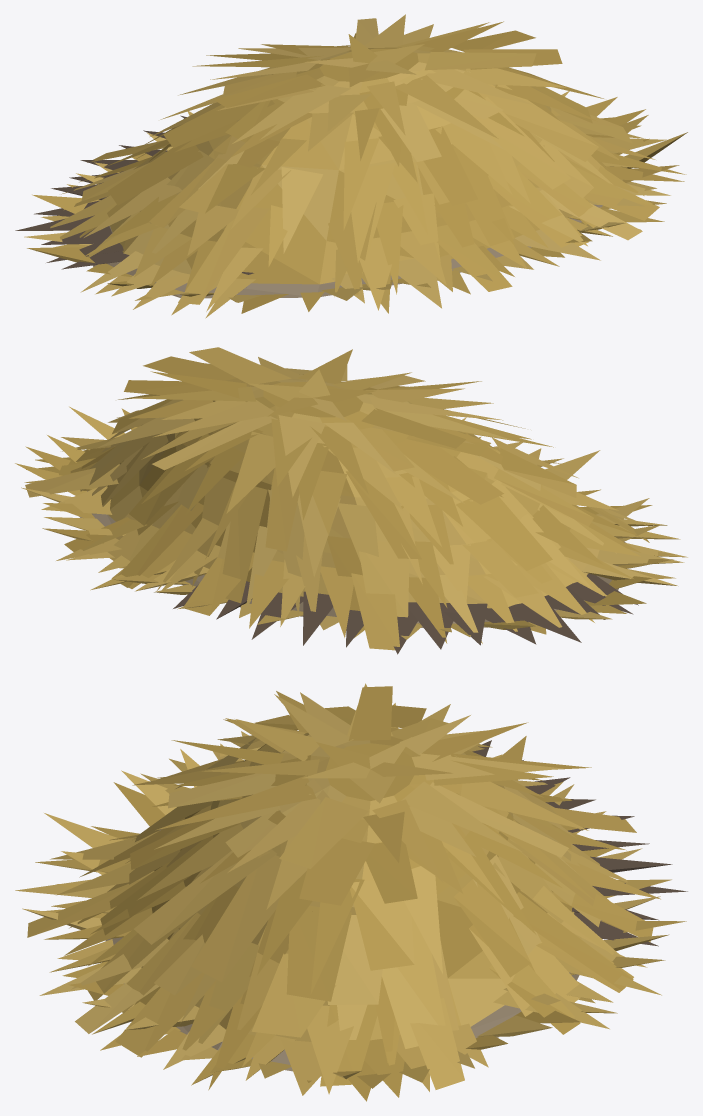
The model's file is straw-pile-ebd54d.glb.
3 renders of one model, top to bottom at view 1: azimuth 30°, elevation 25°; view 2: azimuth 150°, elevation 25°; view 3: azimuth 270°, elevation 25°, orthographic. The views are drawn at different scales.
Visible parts, largest first — view 1: straw-pile-mesh; view 2: straw-pile-mesh; view 3: straw-pile-mesh.
Boxes of the visible parts, left/top/right/bottom form: straw-pile-mesh: left=15, top=14, right=687, bottom=318; straw-pile-mesh: left=15, top=347, right=687, bottom=654; straw-pile-mesh: left=15, top=683, right=687, bottom=1101.
Bounding box in the file's own units: 1.2 × 0.2488 × 0.8972.
